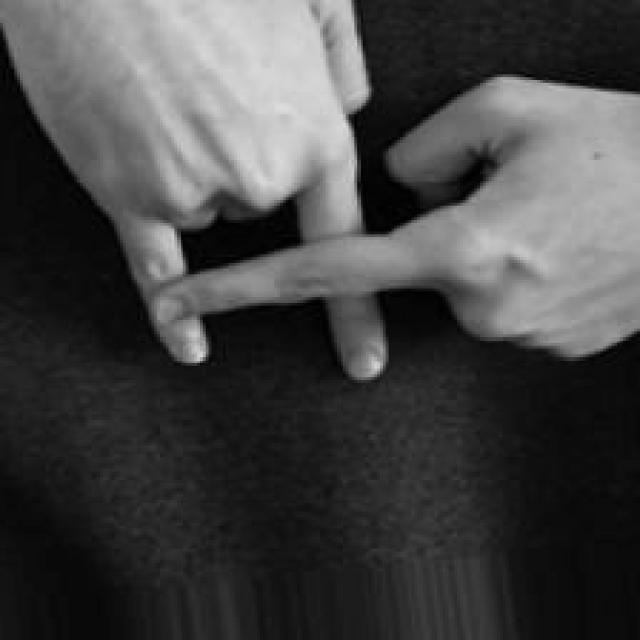H: (1, 0, 640, 383)
